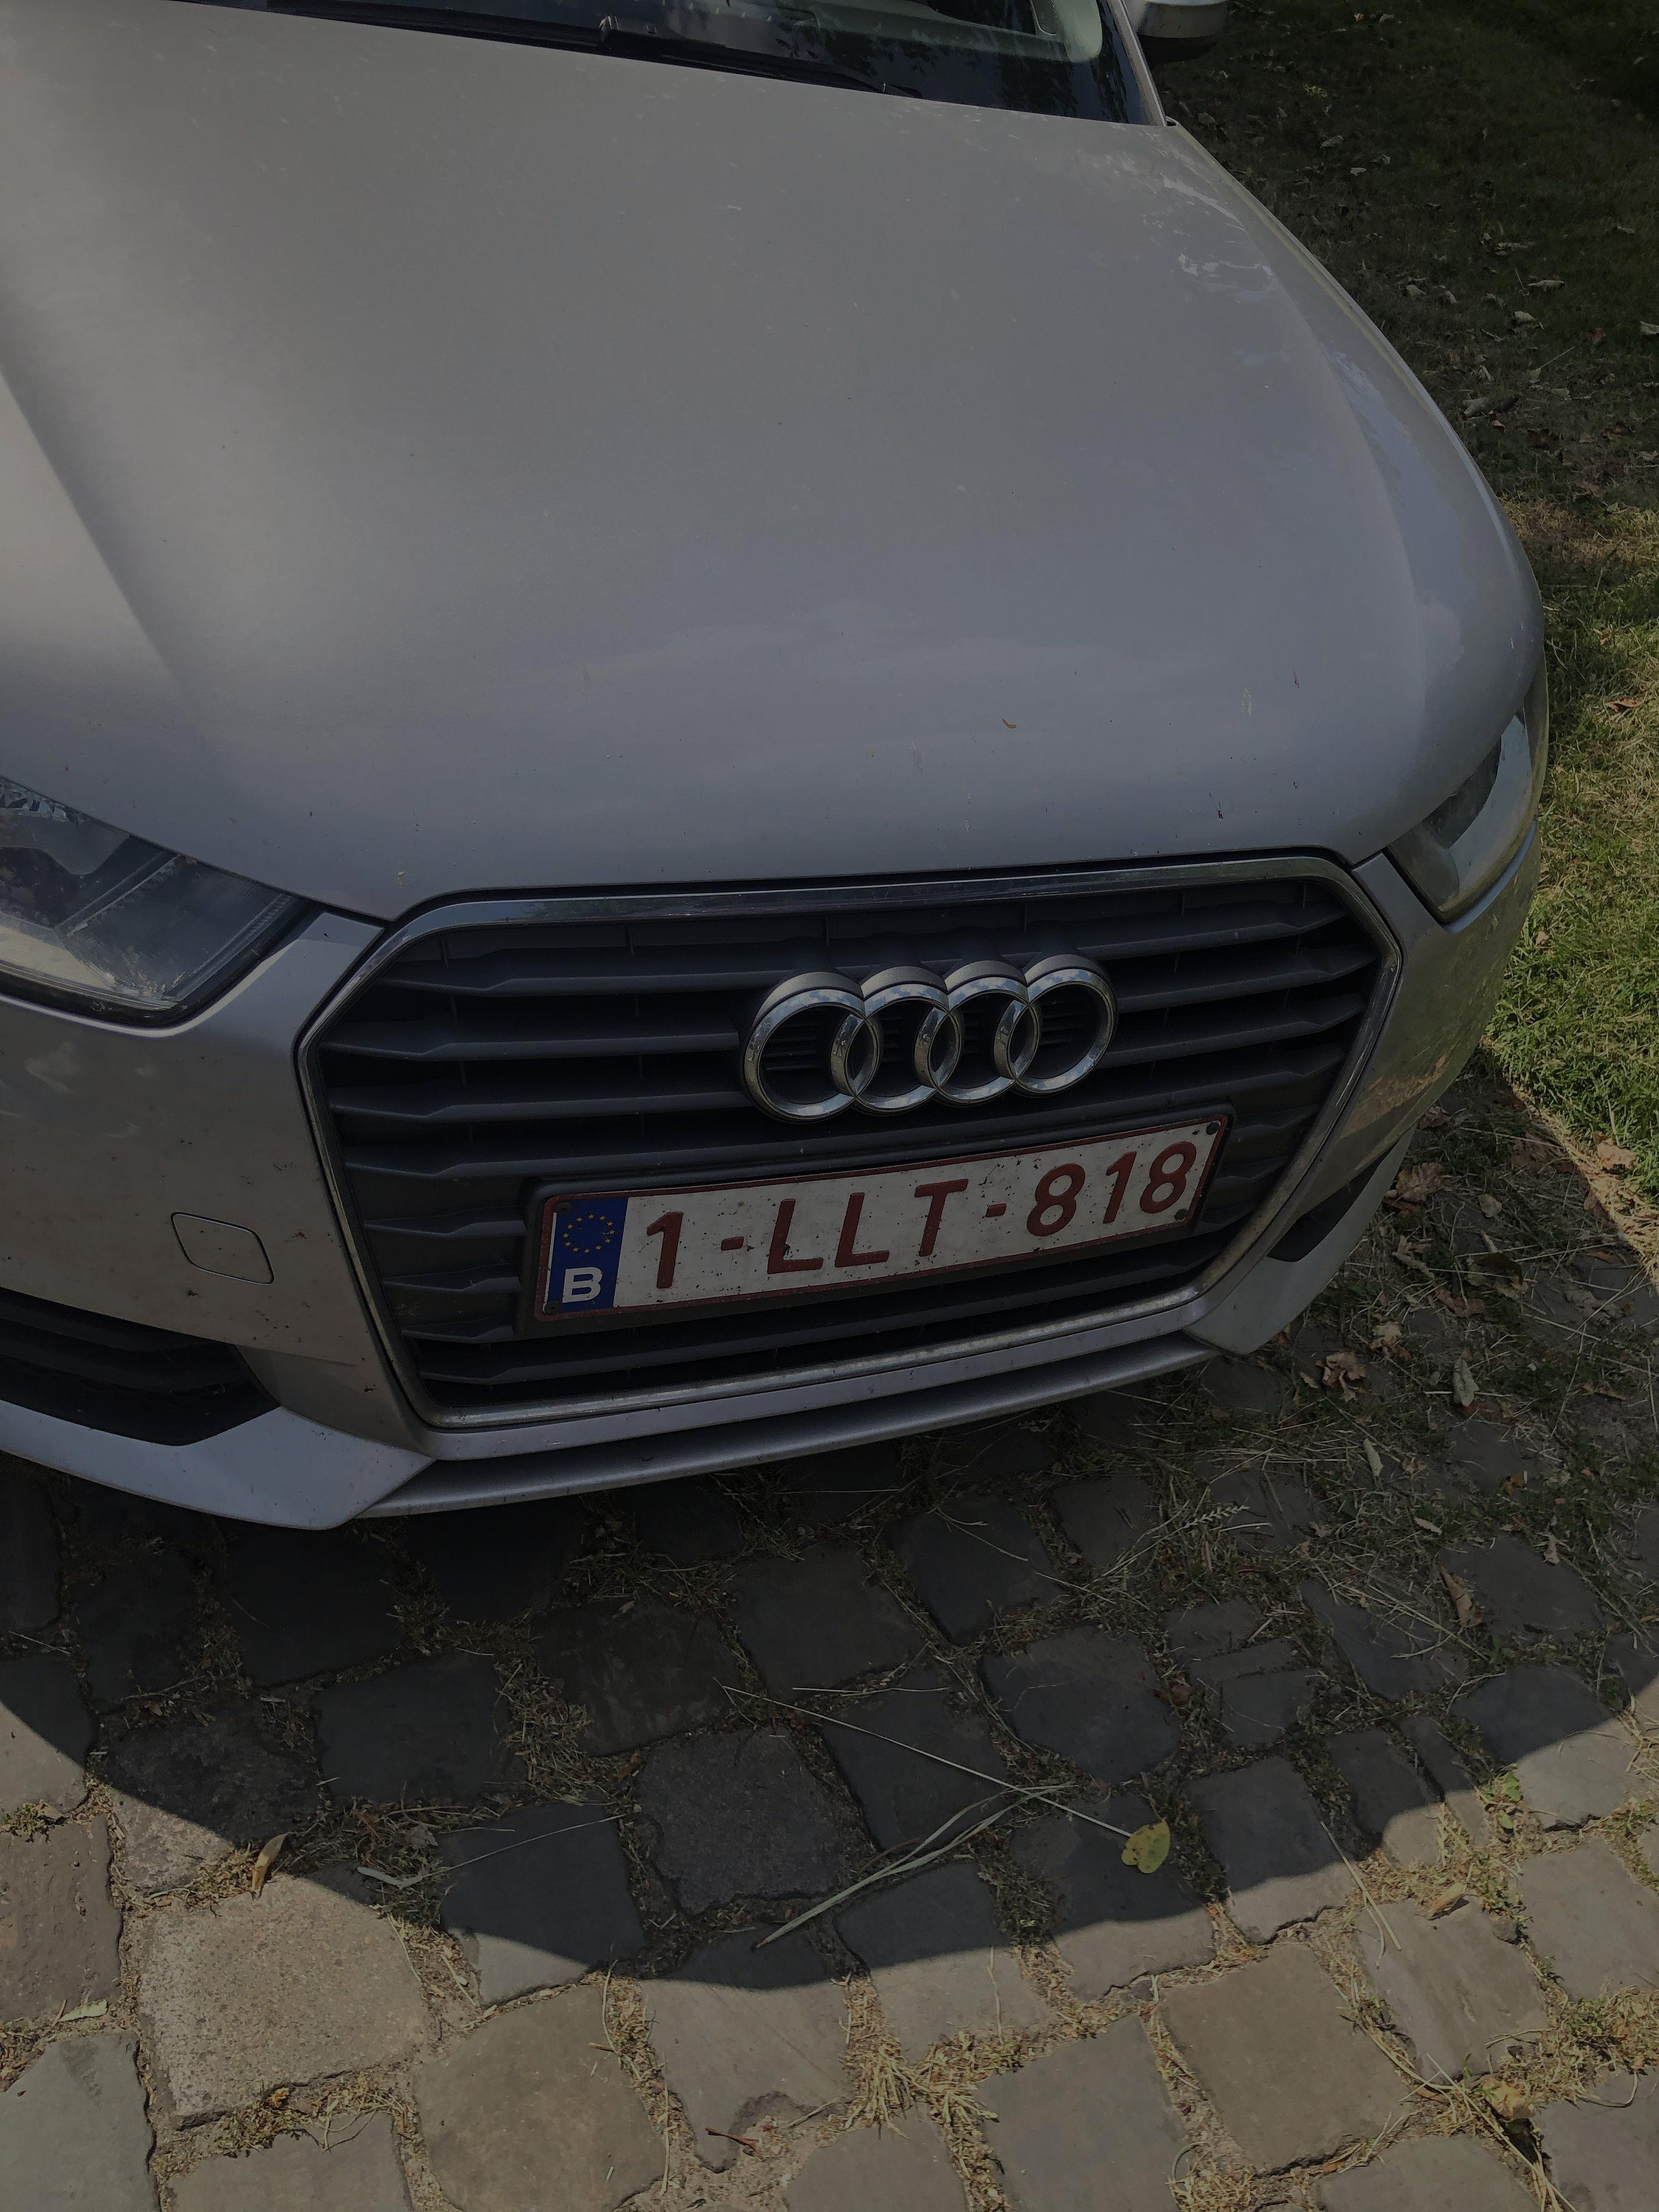plate: (531, 1094, 1253, 1344)
